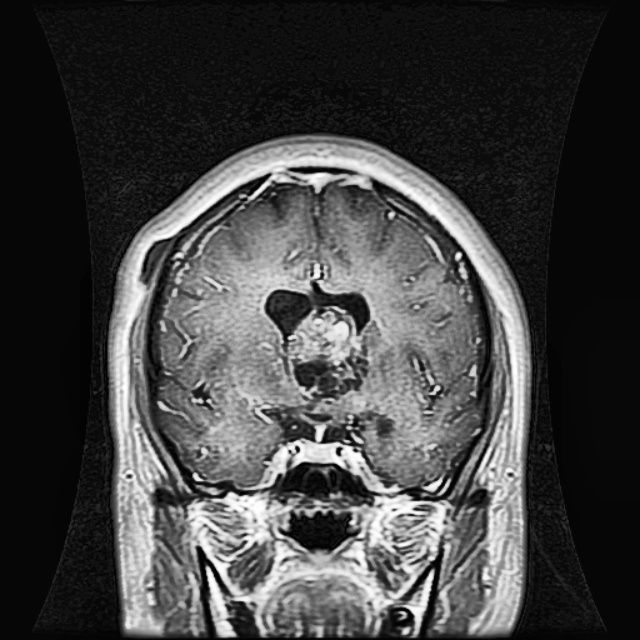Meningioma: (265, 283, 372, 400)
